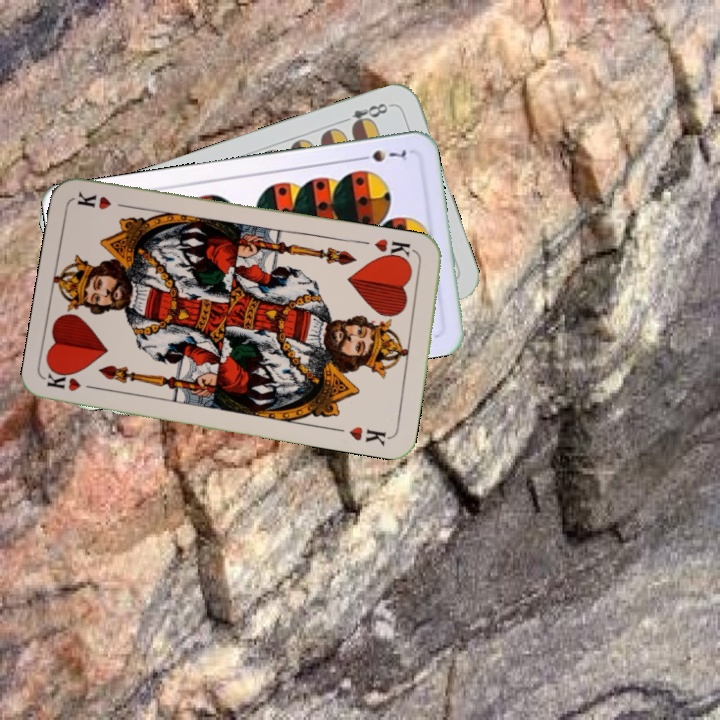E8: (337, 99, 395, 132)
HK: (44, 368, 104, 394), (370, 234, 420, 265)
S7: (353, 146, 409, 165)
